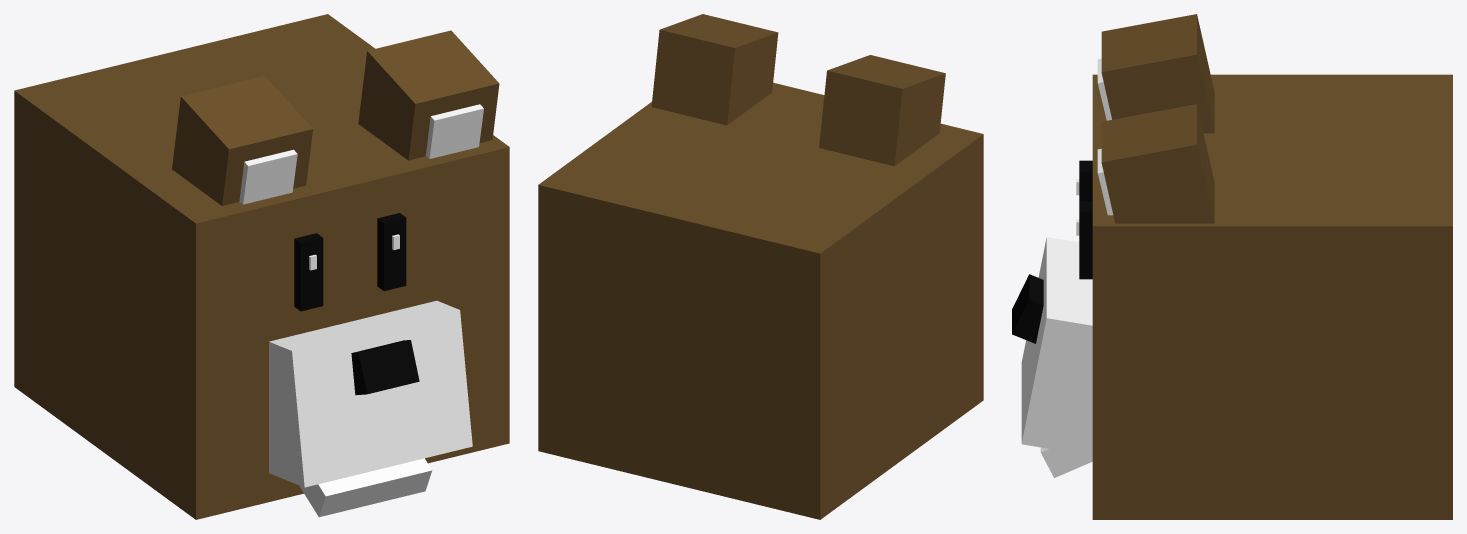
Rendered from head.obj.
The picture shows the model from 3 angles, left to right: view 1: azimuth 30°, elevation 25°; view 2: azimuth 150°, elevation 25°; view 3: azimuth 270°, elevation 25°; orthographic projection. The views are drawn at different scales.
Parts seen in each view (by area): view 1: pCube1 pCube12, pCube1 pCube12 pCube2, pCube1 pCube12 pCube9, pCube1 pCube12 pCube18, pCube1 pCube12 pCube6, pCube1 pCube12 pCube4, pCube1 pCube12 pCube18 pCube17, pCube1 pCube12 pCube9 pCube11, pCube1 pCube12 pCube16, pCube1 pCube12 pCube7; view 2: pCube1 pCube12, pCube1 pCube12 pCube9, pCube1 pCube12 pCube18; view 3: pCube1 pCube12, pCube1 pCube12 pCube2, pCube1 pCube12 pCube9, pCube1 pCube12 pCube18, pCube1 pCube12 pCube4, pCube1 pCube12 pCube7, pCube1 pCube12 pCube6, pCube1 pCube12 pCube16.
Part boxes in pixels (left/top/right/bottom): pCube1 pCube12: left=14, top=14, right=509, bottom=519; pCube1 pCube12 pCube2: left=269, top=300, right=472, bottom=487; pCube1 pCube12 pCube9: left=358, top=30, right=499, bottom=160; pCube1 pCube12 pCube18: left=172, top=76, right=312, bottom=205; pCube1 pCube12 pCube6: left=299, top=458, right=432, bottom=517; pCube1 pCube12 pCube4: left=351, top=340, right=419, bottom=395; pCube1 pCube12 pCube18 pCube17: left=239, top=149, right=297, bottom=204; pCube1 pCube12 pCube9 pCube11: left=426, top=104, right=483, bottom=158; pCube1 pCube12 pCube16: left=294, top=233, right=323, bottom=311; pCube1 pCube12 pCube7: left=377, top=213, right=406, bottom=290; pCube1 pCube12: left=538, top=83, right=983, bottom=519; pCube1 pCube12 pCube9: left=651, top=14, right=778, bottom=125; pCube1 pCube12 pCube18: left=819, top=55, right=945, bottom=166; pCube1 pCube12: left=1092, top=74, right=1452, bottom=519; pCube1 pCube12 pCube2: left=1021, top=237, right=1092, bottom=455; pCube1 pCube12 pCube9: left=1101, top=104, right=1214, bottom=223; pCube1 pCube12 pCube18: left=1101, top=14, right=1214, bottom=133; pCube1 pCube12 pCube4: left=1012, top=274, right=1043, bottom=343; pCube1 pCube12 pCube7: left=1079, top=201, right=1092, bottom=279; pCube1 pCube12 pCube6: left=1040, top=447, right=1092, bottom=477; pCube1 pCube12 pCube16: left=1079, top=160, right=1092, bottom=200.
Size of the model in its own units: 2.94 by 3.45 by 3.62.
